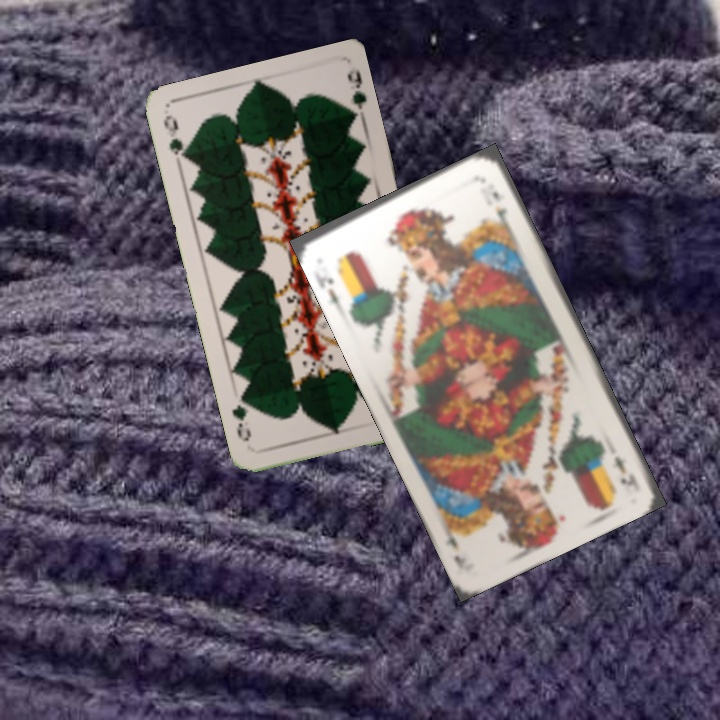EK: (311, 267, 345, 311), (609, 452, 639, 490)
G9: (159, 111, 192, 168)
